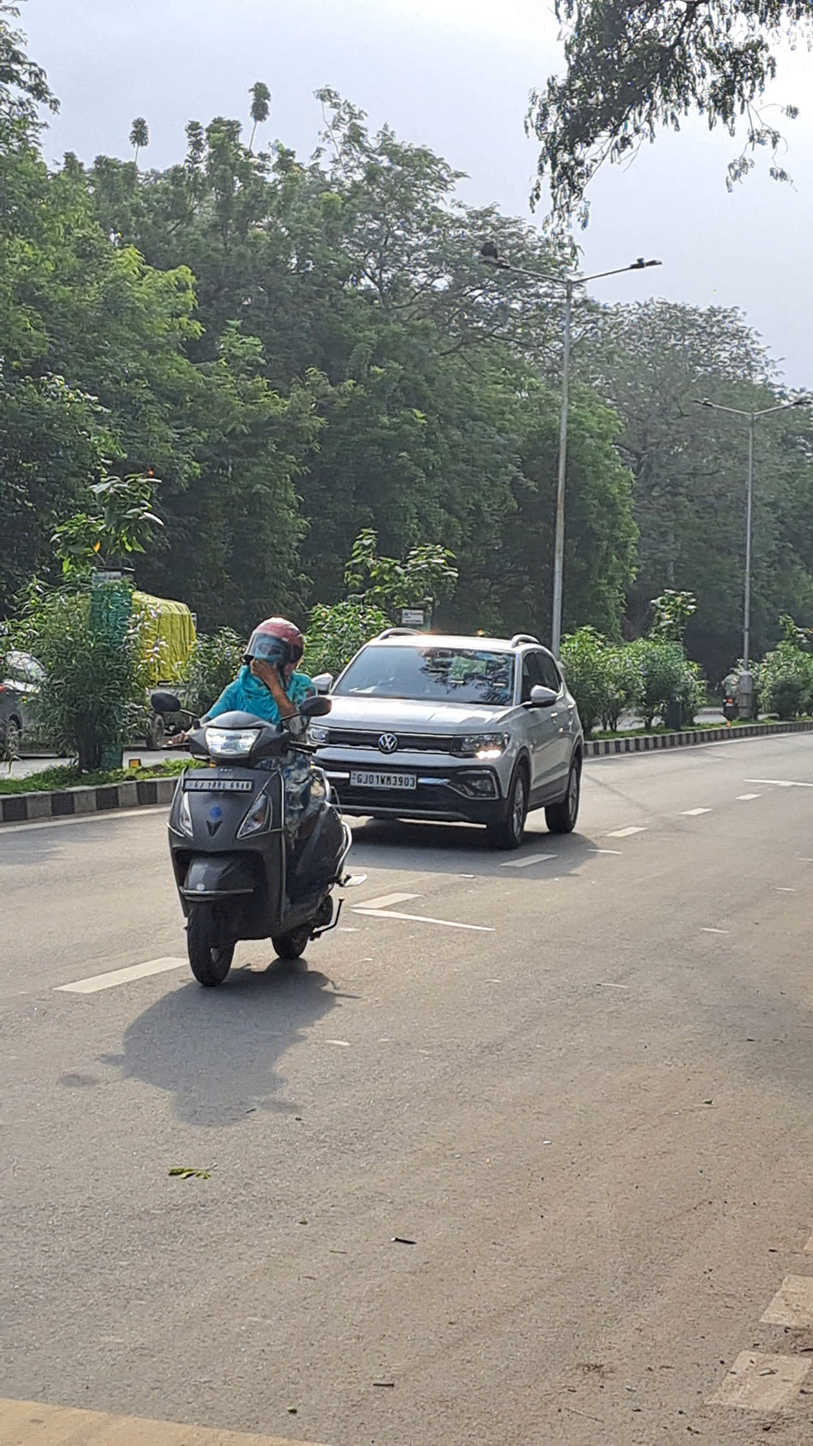BikeWithRider: (150, 607, 362, 996)
Helmet: (236, 611, 312, 679)
